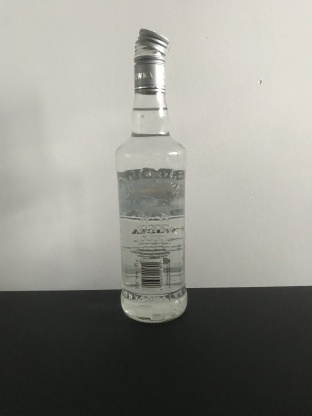nakretka: (131, 26, 170, 95)
